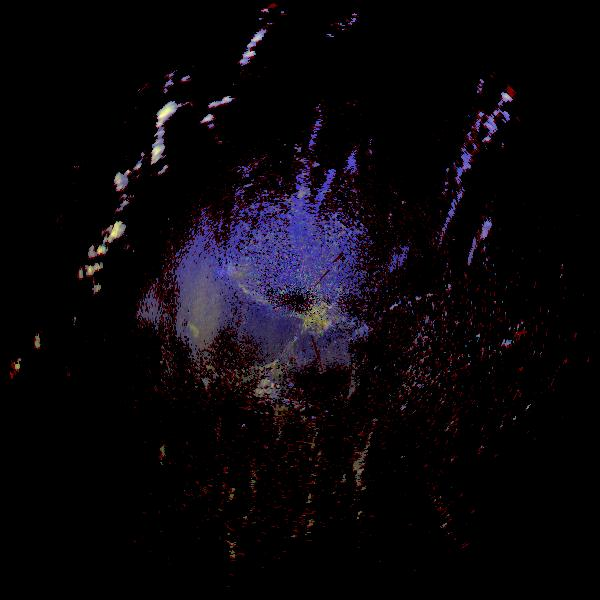roost: (121, 307, 229, 415)
